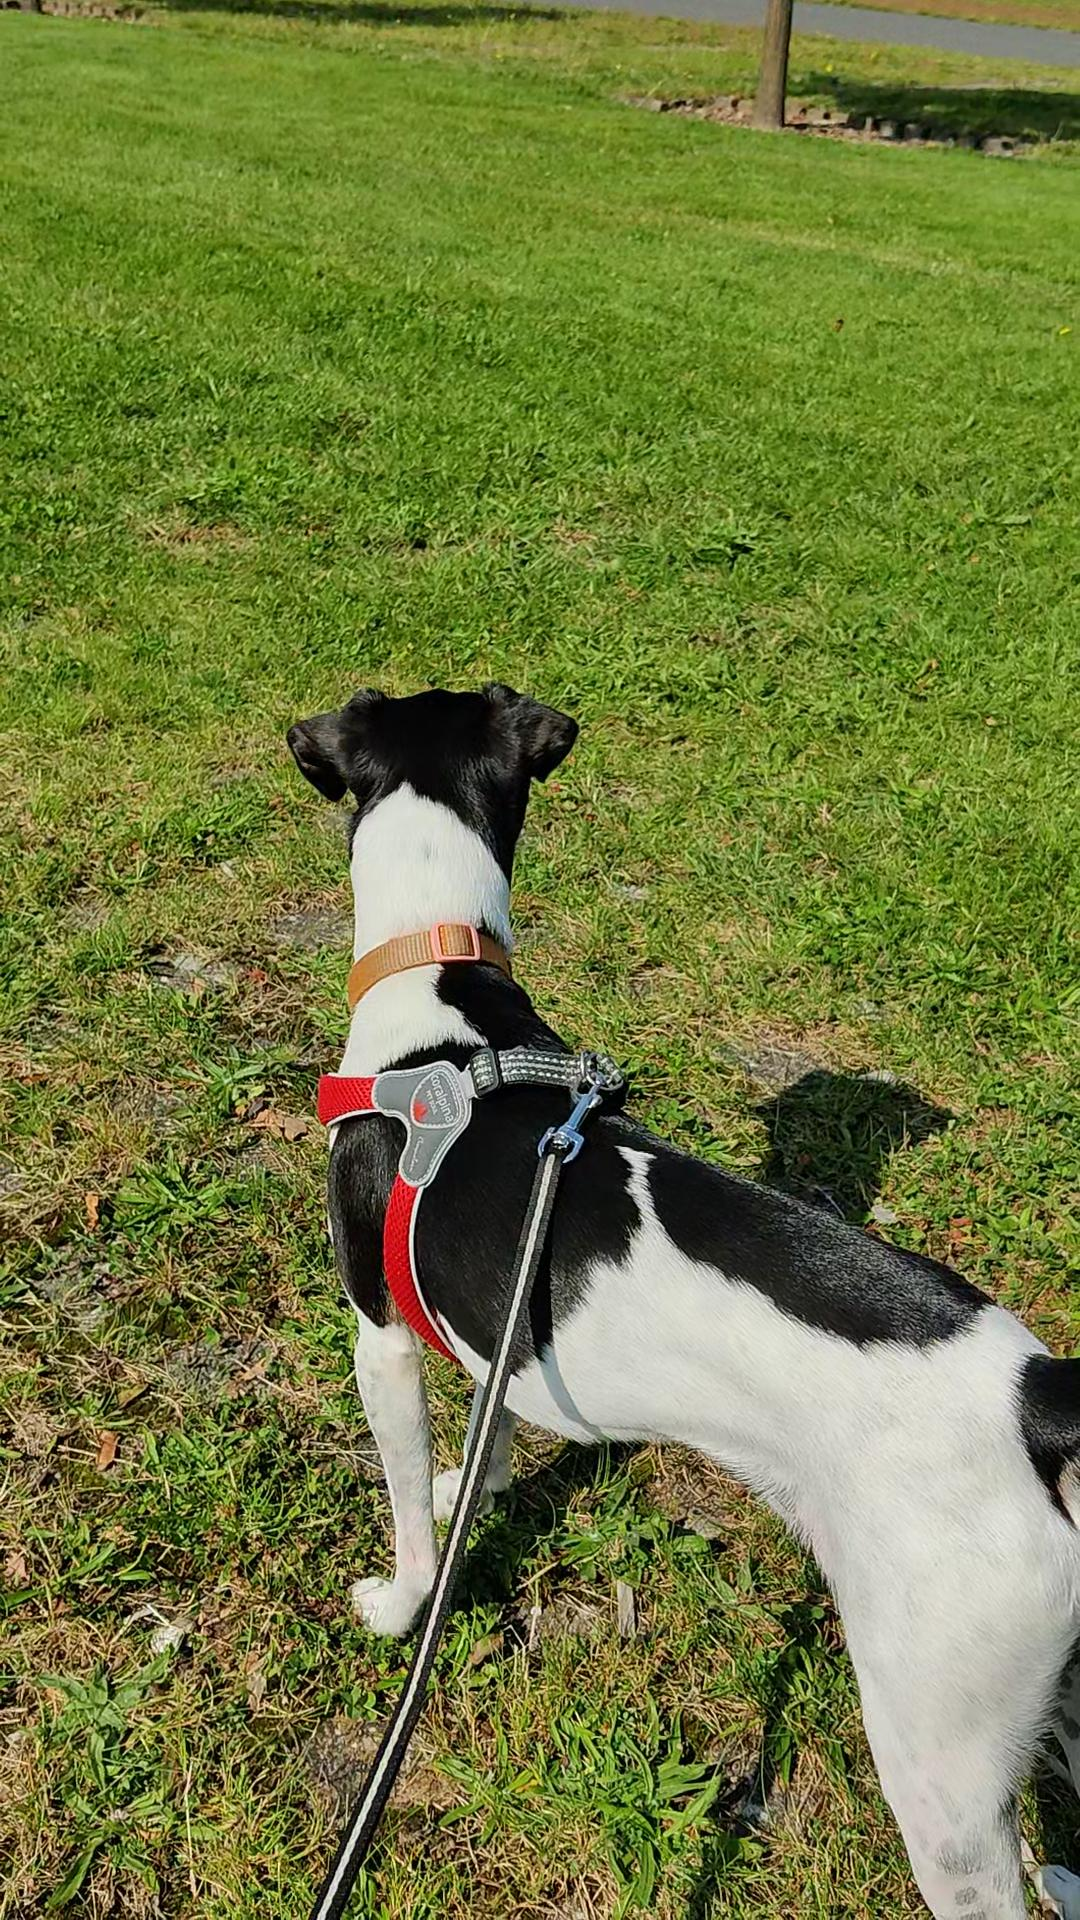Dog: (282, 675, 1079, 1919)
